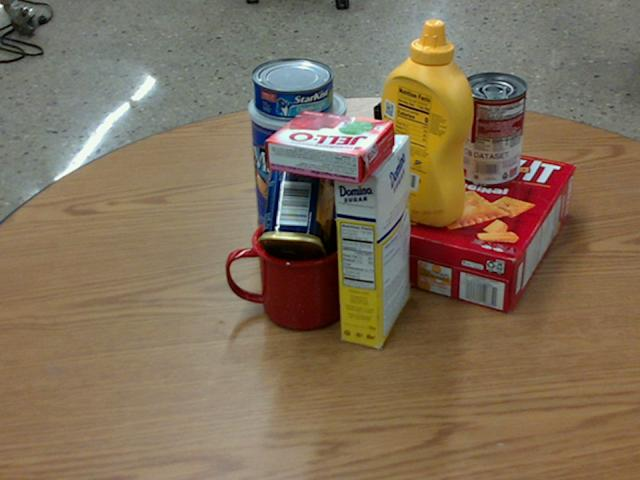cracker_box: (359, 138, 573, 312)
gelatin_box: (264, 109, 395, 185)
large_marker: (372, 103, 388, 203)
master_chef_can: (250, 84, 347, 240)
mug: (223, 212, 347, 330)
mustard_bottle: (375, 20, 473, 226)
potted_meat_can: (258, 148, 335, 267)
sugar_box: (332, 132, 409, 347)
tomato_soup_can: (457, 72, 525, 185)
tuna_fish_can: (251, 57, 333, 118)
